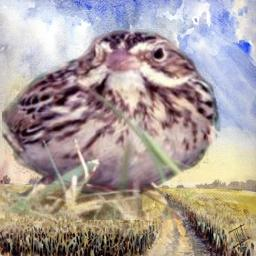Sparrow: (2, 29, 221, 220)
